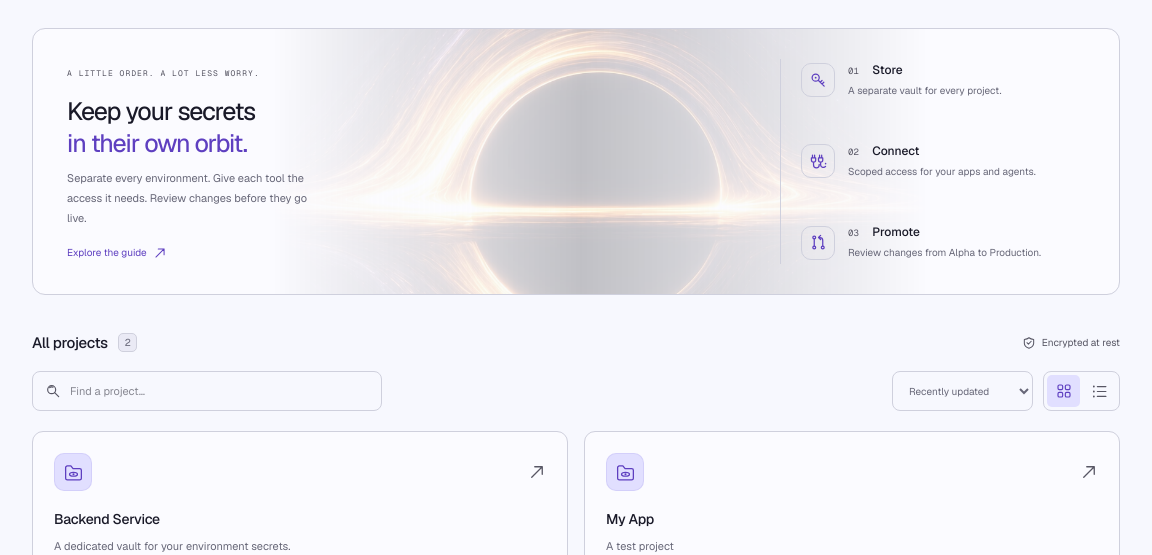
Test: ProjectsPage › filters descriptions and restores projects after clearing an empty search
This screenshot has width=1152, height=555.
Expected: the heading "My App" is shown, [606,510,654,528]
Type "test project" into the field named "Filter projects" at (220, 391), box [70,383,369,400]
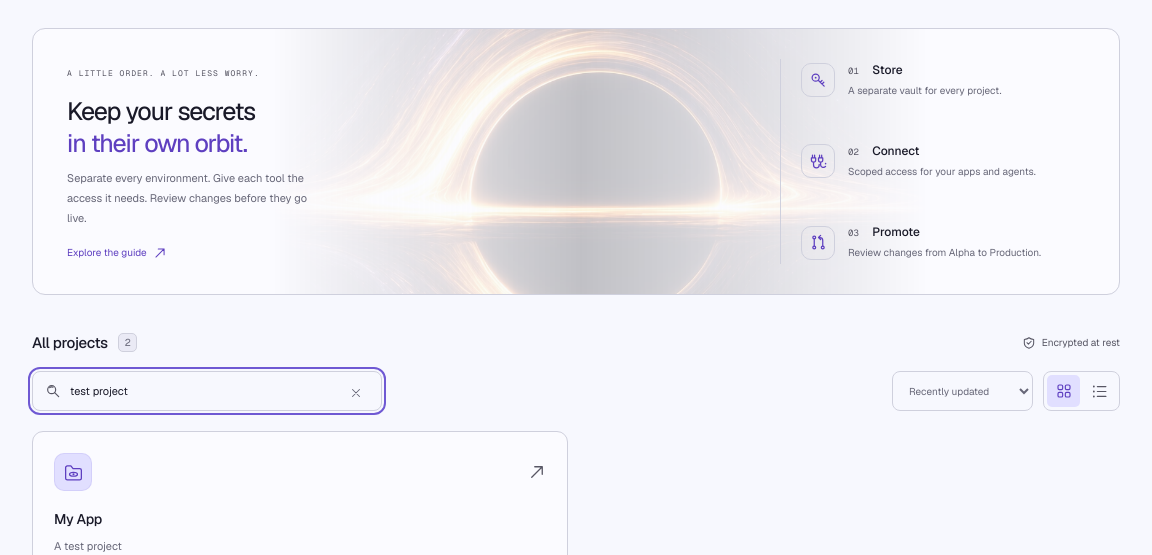
Clear the field named "Filter projects" at (202, 391), box [70,383,334,400]
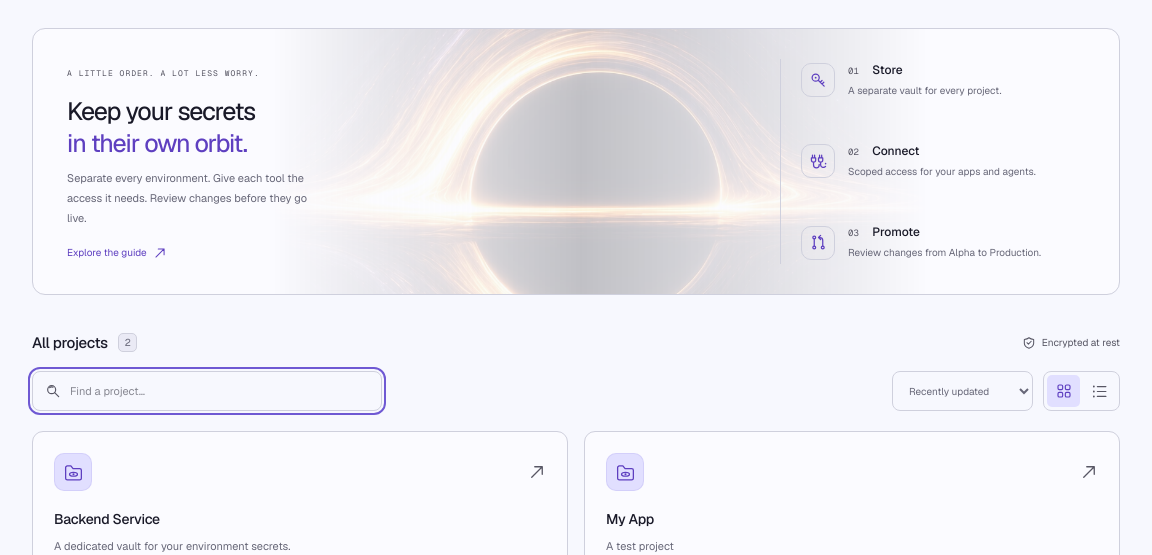
Type "missing" into the field named "Filter projects" at (220, 391), box [70,383,369,400]
(page scrolled)
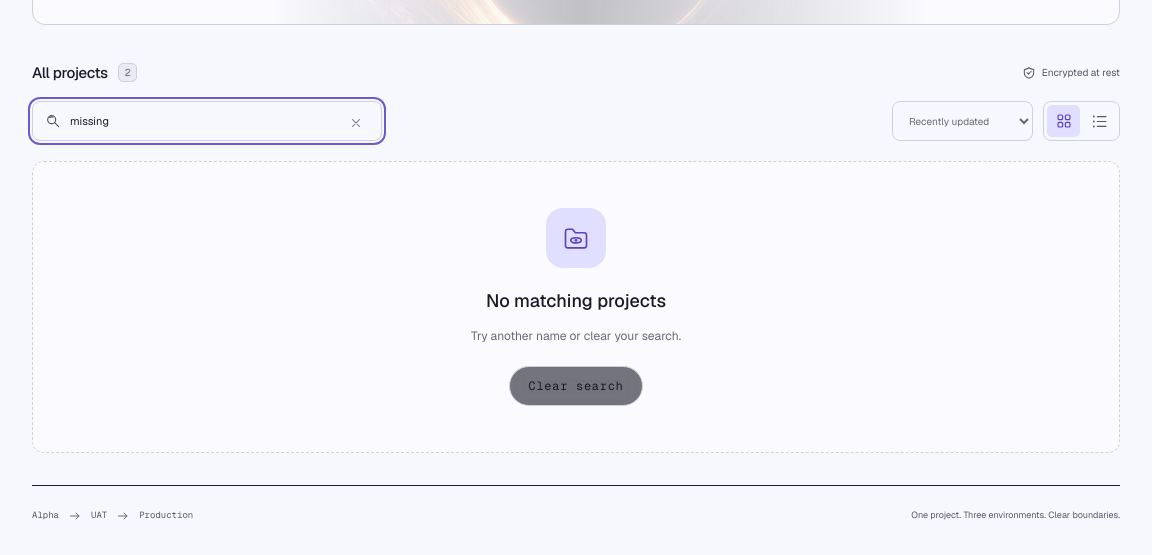
Expected: the heading "No matching projects" is shown, [486,287,666,315]
Click the button "Clear search" at (576, 386), box [510,366,642,406]
(page scrolled)
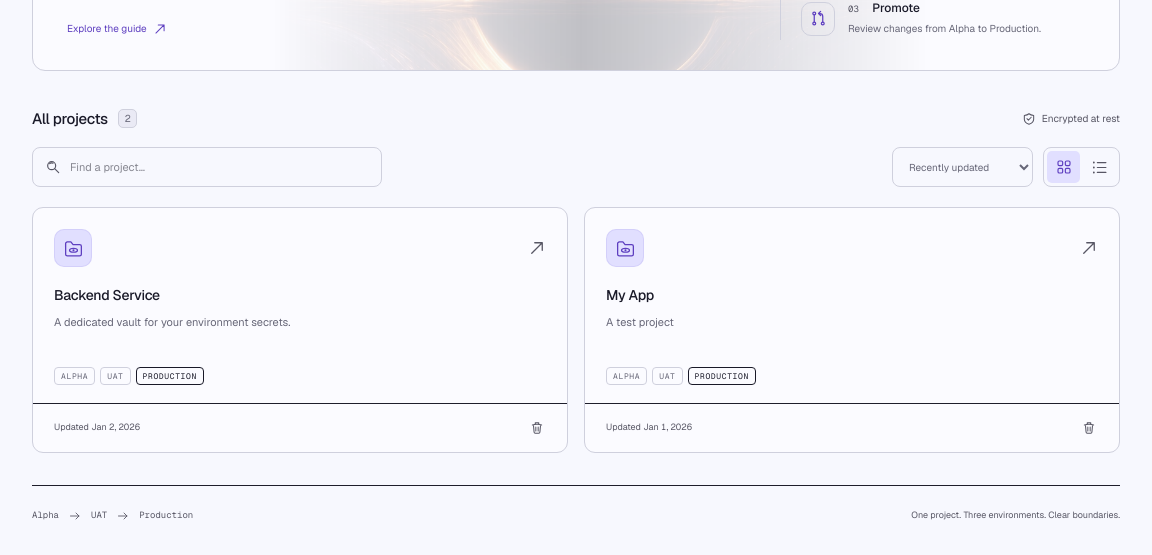
Expected: the number of links named "Open " is 2, [33,208,567,403]; [585,208,1119,403]
